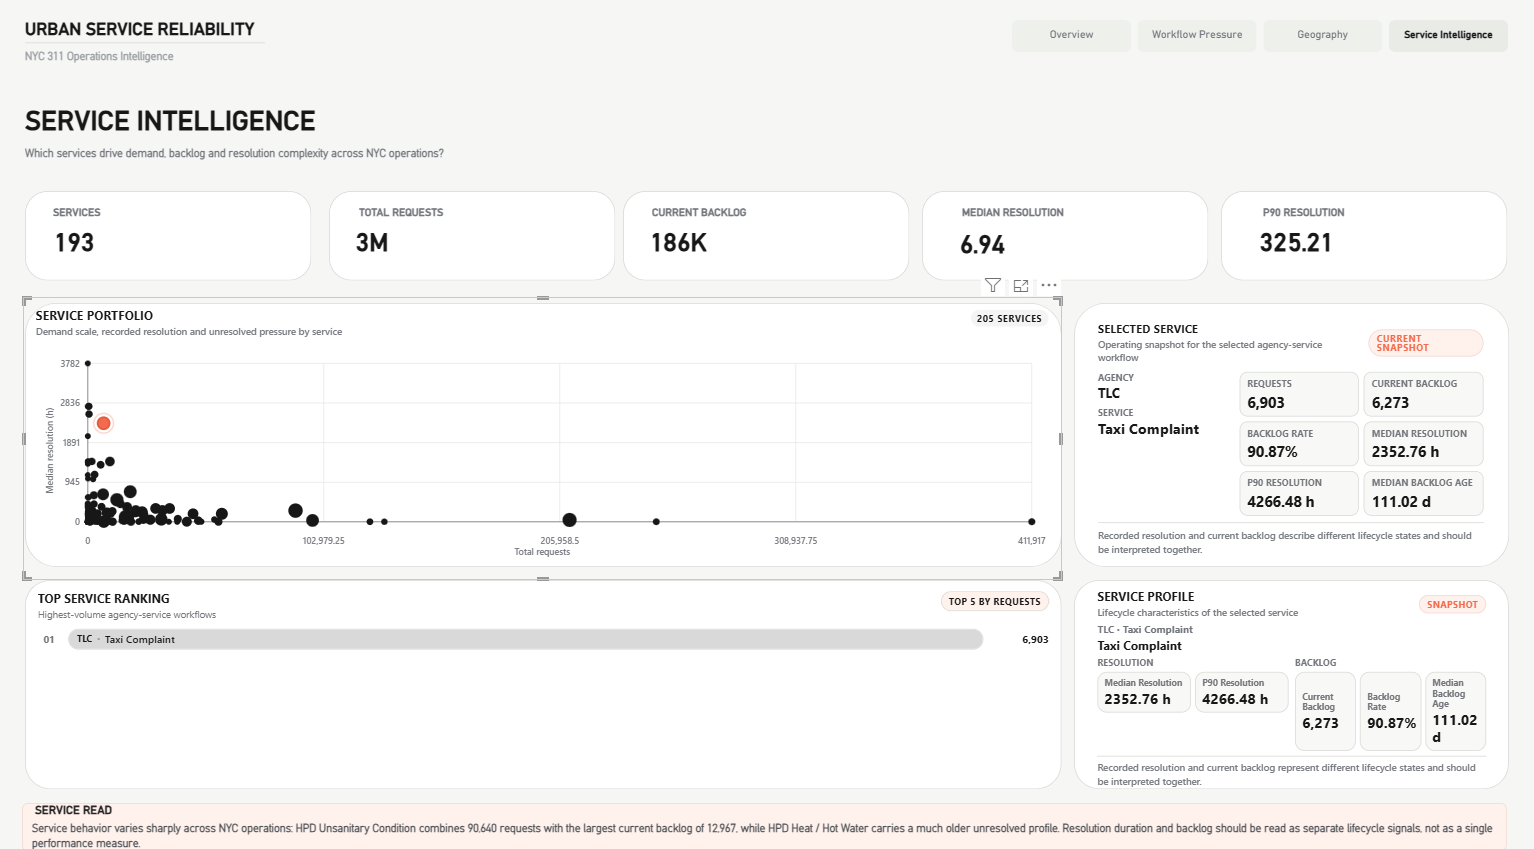

What the dashboard file says about the page in this screenshot:
{"tool":"powerbi","page":{"name":"Service Intelligence ","canvas":[1920,1080],"ordinal":3},"visuals":[{"type":"textbox","box":[32,25,390,44],"z":0},{"type":"textbox","box":[32,61,300,25],"z":1000},{"type":"shape","box":[32.3,46.6,300.2,16.8],"z":2000},{"type":"pageNavigator","box":[1266.6,25.9,620,40],"z":3000},{"type":"textbox","box":[32,132,600,52],"z":4000},{"type":"textbox","box":[32,182,760,30],"z":5000},{"type":"shape","box":[32,240,358,112],"z":6000},{"type":"shape","box":[412.6,240.2,358,112],"z":7000},{"type":"shape","box":[780,240,358,112],"z":8000},{"type":"shape","box":[1154,240,358,112],"z":9000},{"type":"shape","box":[1528,240,358,112],"z":10000},{"type":"shape","box":[32,380,1296,330],"z":11000},{"type":"shape","box":[29.1,1004.4,1856,60],"z":12000},{"type":"cardVisual","fields":{"Data":["Measures (2).Service Count"]},"box":[52,270,310,66],"z":13000},{"type":"textbox","box":[67.3,256.2,249.7,27.2],"z":14000},{"type":"cardVisual","fields":{"Data":["Measures (2).Total Requests"]},"box":[430.3,269.7,288.8,66.3],"z":15000},{"type":"textbox","box":[449.4,256.4,250.5,30.9],"z":16000},{"type":"cardVisual","fields":{"Data":["Measures (2).Current Backlog"]},"box":[797.2,269.7,288.8,66.3],"z":17000},{"type":"textbox","box":[816.3,256.4,250.5,30.9],"z":18000},{"type":"cardVisual","fields":{"Data":["Measures (2).Median Resolution Hours"]},"box":[1184.7,272.6,288.8,66.3],"z":19000},{"type":"cardVisual","fields":{"Data":["Measures (2).P90 Resolution Hours"]},"box":[1560.5,269.7,288.8,66.3],"z":20000},{"type":"textbox","box":[1203.2,256.2,251,31.1],"z":21000},{"type":"textbox","box":[1579.6,256.4,250.5,30.9],"z":22000},{"type":"textbox","box":[41.1,1003.9,150,22],"z":23000},{"type":"textbox","box":[41.1,1026.5,1846.4,45.3],"z":24000},{"type":"shape","box":[1344,380,544,330],"z":25000},{"type":"shape","box":[32.3,725.7,1295.7,261.5],"z":26000},{"type":"shape","box":[1344.1,725.7,543.5,261.5],"z":27000},{"type":"servicePortfolioMapVisualB72B4443FD7F4D11B4639F7E0CE03BCF","fields":{"workflowId":["DimWorkflow.WorkflowID"],"agency":["DimWorkflow.agency"],"service":["DimWorkflow.service_problem"],"requests":["Measures (2).Total Requests"],"currentBacklog":["Measures (2).Current Backlog"],"backlogRate":["Measures (2).Backlog Rate"],"medianResolution":["Measures (2).Workflow Median Resolution Hours"],"p90Resolution":["Measures (2).Workflow P90 Resolution Hours"],"medianBacklogAge":["Measures (2).Workflow Median Backlog Age"]},"box":[29.7,372.4,1298.4,354],"z":27003},{"type":"selectedServiceProfileVisualA5B16CAB66FA4843A588CC828571C637","fields":{"workflowId":["DimWorkflow.WorkflowID"],"agency":["DimWorkflow.agency"],"service":["DimWorkflow.service_problem"],"requests":["Measures (2).Total Requests"],"currentBacklog":["Measures (2).Current Backlog"],"backlogRate":["Measures (2).Backlog Rate"],"medianResolution":["Measures (2).Workflow Median Resolution Hours"],"p90Resolution":["Measures (2).Workflow P90 Resolution Hours"],"medianBacklogAge":["Measures (2).Workflow Median Backlog Age"]},"box":[1343.7,379.5,542.3,346.9],"z":27004},{"type":"topServiceRankingVisualEF600605FFDD4DD2A80FD2FE02EC74FF","fields":{"workflowId":["DimWorkflow.WorkflowID"],"agency":["DimWorkflow.agency"],"service":["DimWorkflow.service_problem"],"requests":["Measures (2).Total Requests"],"currentBacklog":["Measures (2).Current Backlog"],"backlogRate":["Measures (2).Backlog Rate"],"medianResolution":["Measures (2).Workflow Median Resolution Hours"],"p90Resolution":["Measures (2).Workflow P90 Resolution Hours"]},"box":[32.6,726.4,1295.6,261.9],"z":27005},{"type":"serviceProfileVisual46BC5A96D364419E8A35B8F41B6C6634","fields":{"workflowId":["DimWorkflow.WorkflowID"],"agency":["DimWorkflow.agency"],"service":["DimWorkflow.service_problem"],"currentBacklog":["Measures (2).Current Backlog"],"backlogRate":["Measures (2).Backlog Rate"],"medianBacklogAge":["Measures (2).Workflow Median Backlog Age"],"medianResolution":["Measures (2).Workflow Median Resolution Hours"],"p90Resolution":["Measures (2).Workflow P90 Resolution Hours"]},"box":[1345.1,715,542.3,297.3],"z":27006}]}

Visuals, with their boxes in screenshot pixels (x1, y1, x2, y2), scaled from the page's 1920x1080 canvas onto the 1534x849 screenshot:
textbox: 26:20:337:54
textbox: 26:48:265:68
shape: 26:37:266:50
pageNavigator: 1012:20:1507:52
textbox: 26:104:505:145
textbox: 26:143:633:167
shape: 26:189:312:277
shape: 330:189:616:277
shape: 623:189:909:277
shape: 922:189:1208:277
shape: 1221:189:1507:277
shape: 26:299:1061:558
shape: 23:790:1506:837
cardVisual - Measures (2).Service Count: 42:212:289:264
textbox: 54:201:253:223
cardVisual - Measures (2).Total Requests: 344:212:575:264
textbox: 359:202:559:226
cardVisual - Measures (2).Current Backlog: 637:212:868:264
textbox: 652:202:852:226
cardVisual - Measures (2).Median Resolution Hours: 947:214:1177:266
cardVisual - Measures (2).P90 Resolution Hours: 1247:212:1478:264
textbox: 961:201:1162:226
textbox: 1262:202:1462:226
textbox: 33:789:153:806
textbox: 33:807:1508:843
shape: 1074:299:1508:558
shape: 26:570:1061:776
shape: 1074:570:1508:776
servicePortfolioMapVisualB72B4443FD7F4D11B4639F7E0CE03BCF - DimWorkflow.WorkflowID x DimWorkflow.agency: 24:293:1061:571
selectedServiceProfileVisualA5B16CAB66FA4843A588CC828571C637 - DimWorkflow.WorkflowID x DimWorkflow.agency: 1074:298:1507:571
topServiceRankingVisualEF600605FFDD4DD2A80FD2FE02EC74FF - DimWorkflow.WorkflowID x DimWorkflow.agency: 26:571:1061:777
serviceProfileVisual46BC5A96D364419E8A35B8F41B6C6634 - DimWorkflow.WorkflowID x DimWorkflow.agency: 1075:562:1508:796
